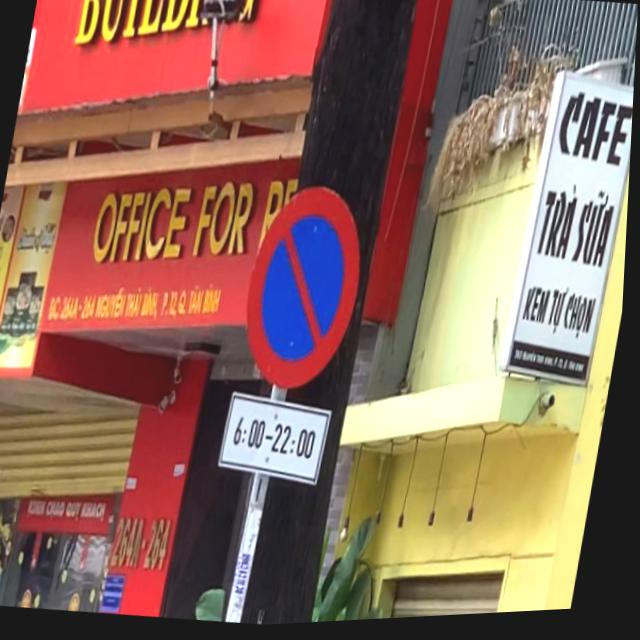Cam do xe: (235, 180, 378, 400)
